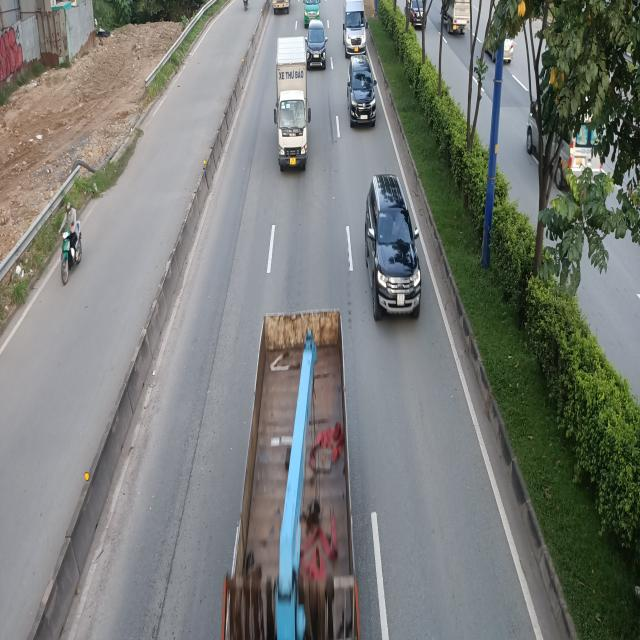car: (367, 171, 424, 319), (348, 51, 378, 126), (306, 20, 328, 70)
truck: (274, 34, 312, 168)
van: (343, 0, 368, 55)
